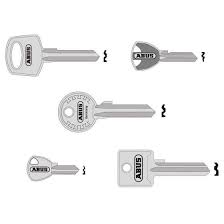kicharina: (51, 87, 159, 139), (4, 32, 100, 81), (112, 146, 214, 189), (127, 36, 200, 78), (20, 154, 81, 188)
